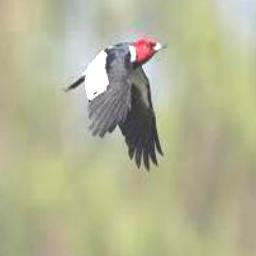Woodpecker: (62, 37, 167, 170)
